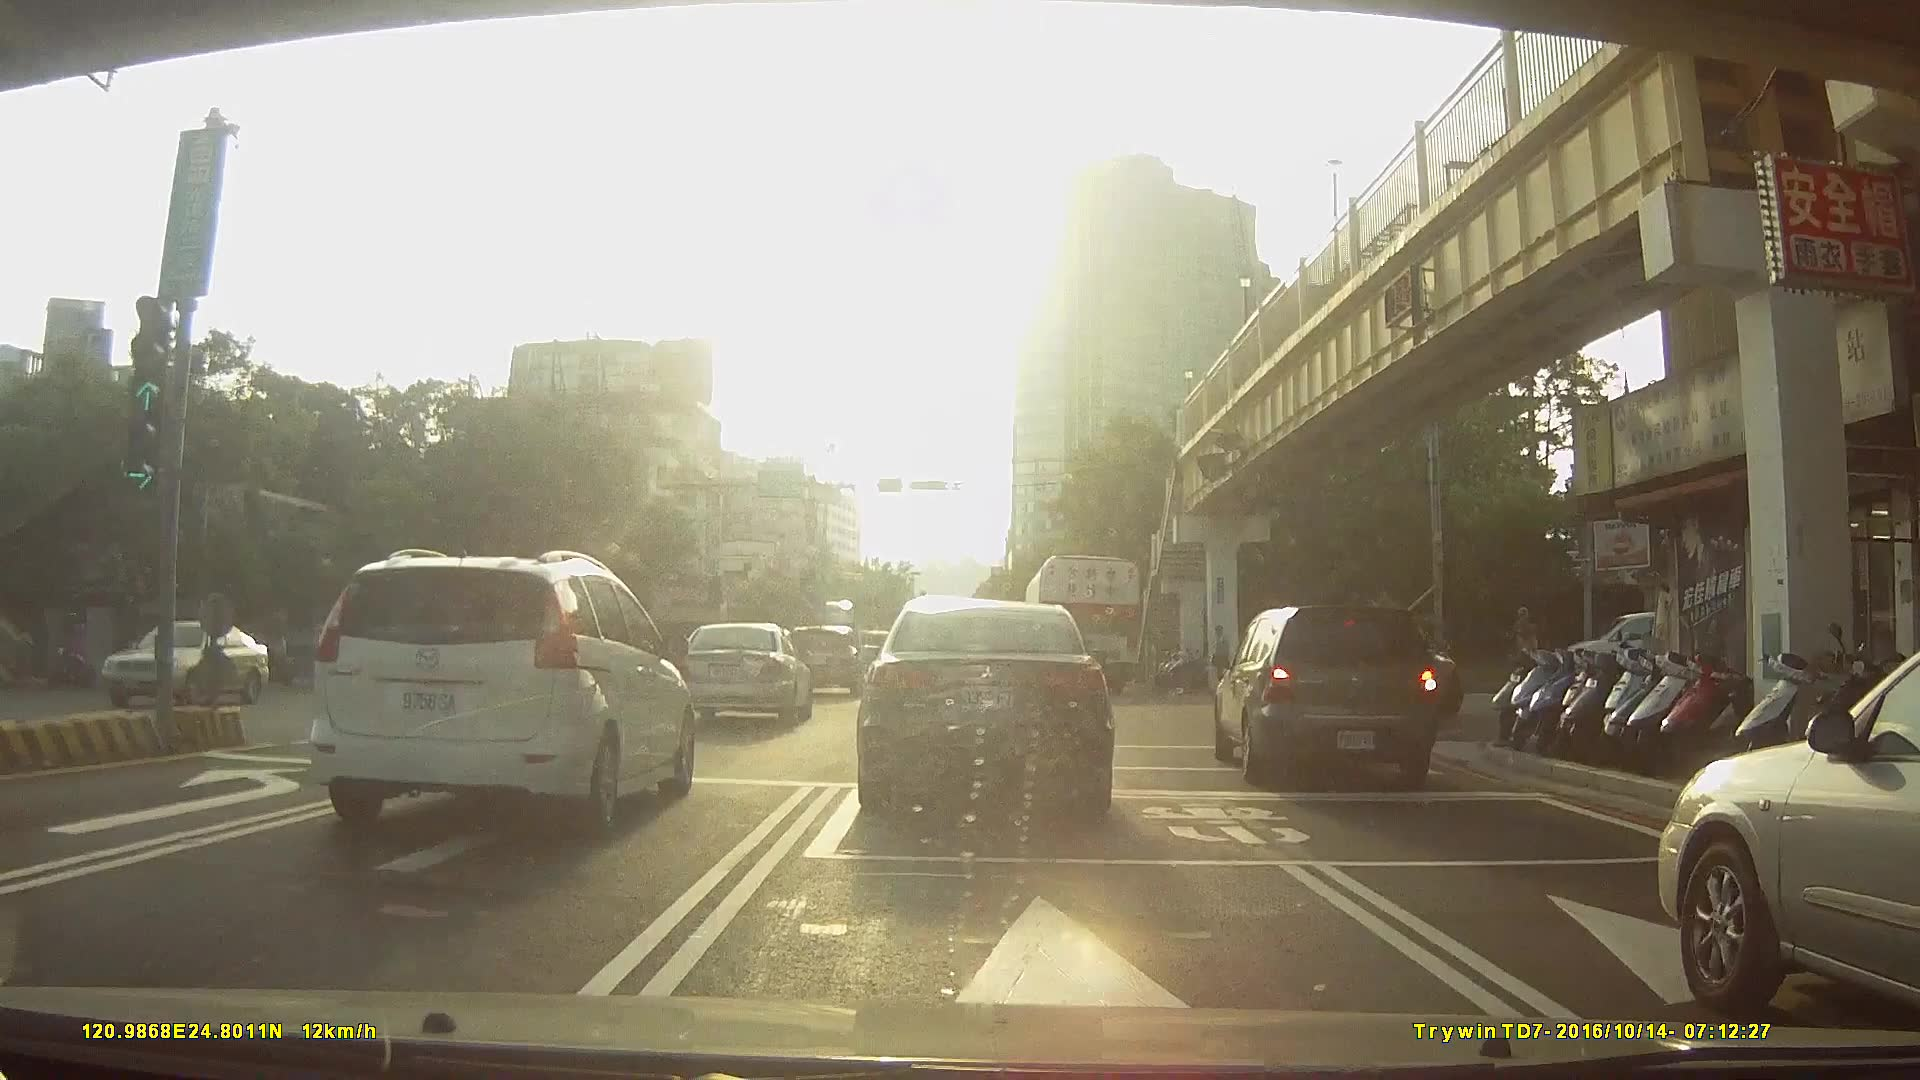pedestrian: (1211, 623, 1237, 689)
vehicle: (309, 545, 697, 832), (1660, 651, 1920, 1020), (854, 591, 1114, 822), (1210, 600, 1451, 791), (99, 620, 284, 710), (1026, 556, 1143, 696), (680, 622, 815, 728), (783, 624, 865, 699)
